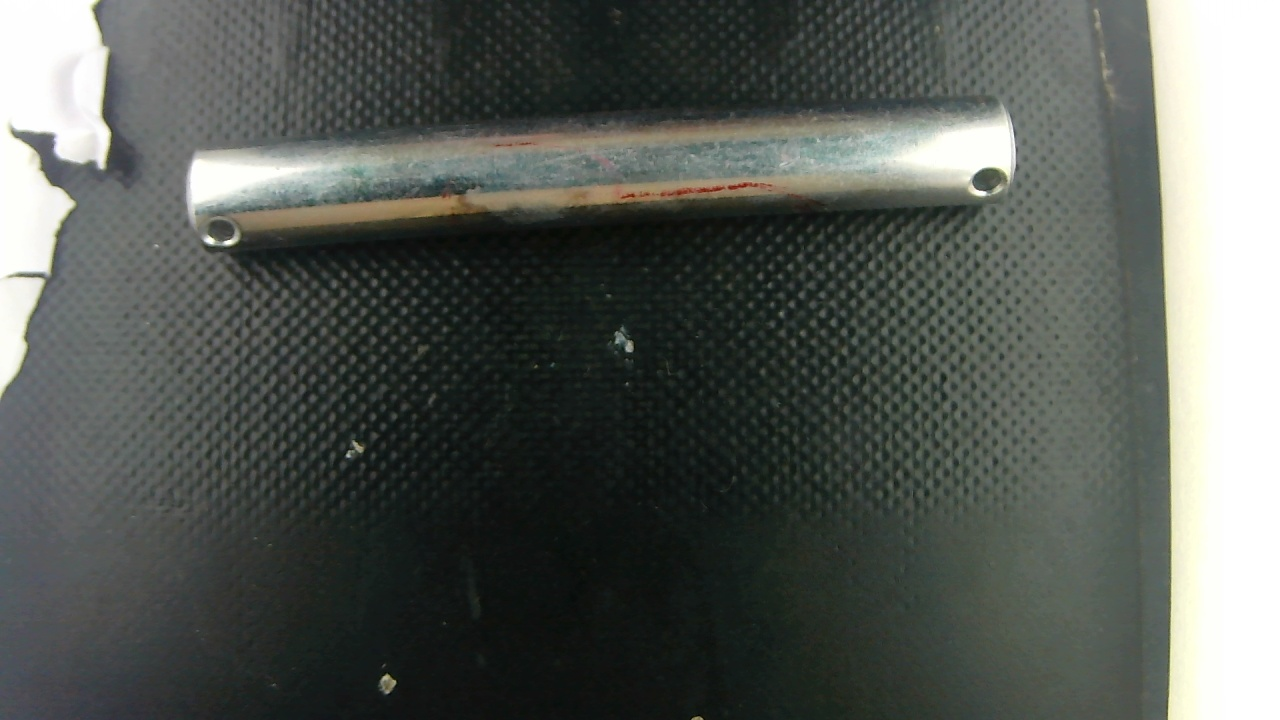black patch_pin: (404, 115, 781, 220)
